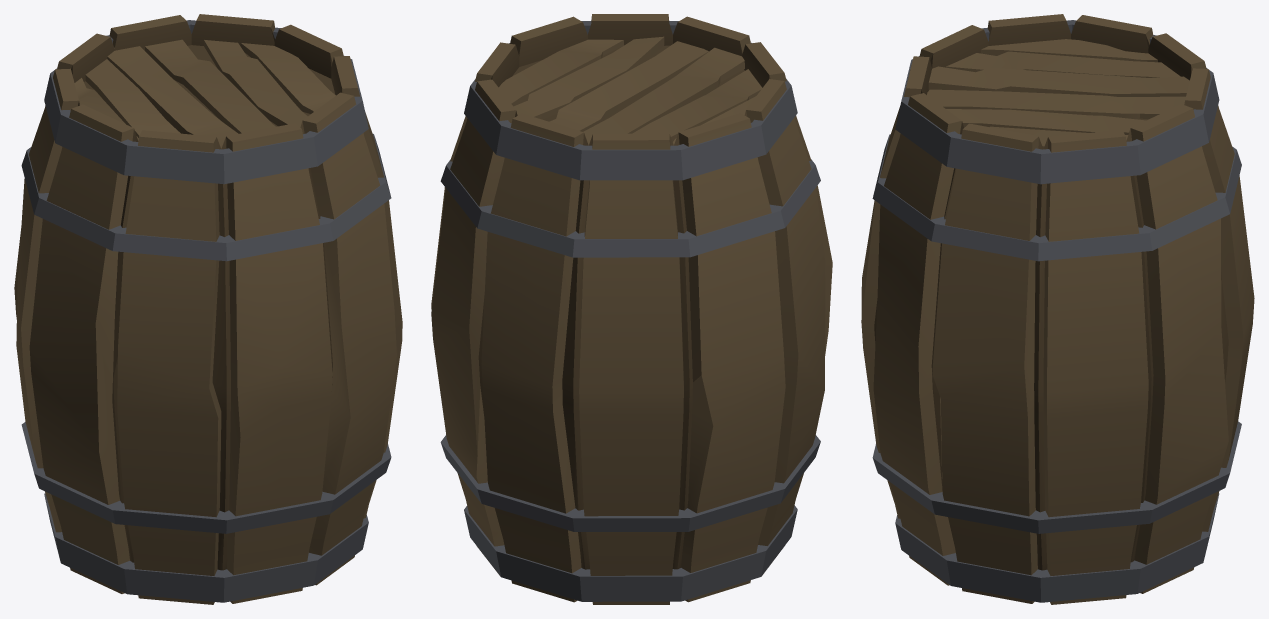
The model's file is Barrel.glb.
The picture shows the model from 3 angles, left to right: view 1: azimuth 30°, elevation 25°; view 2: azimuth 150°, elevation 25°; view 3: azimuth 270°, elevation 25°; orthographic projection.
Visible parts, largest first — view 1: Barrel; view 2: Barrel; view 3: Barrel.
Boxes of the visible parts, box(x1,y1,x2,y2) form: Barrel: box(14, 14, 402, 604); Barrel: box(431, 14, 832, 604); Barrel: box(861, 14, 1254, 604).
Bounding box in the file's own units: 0.8314 × 1.07 × 0.8241.
